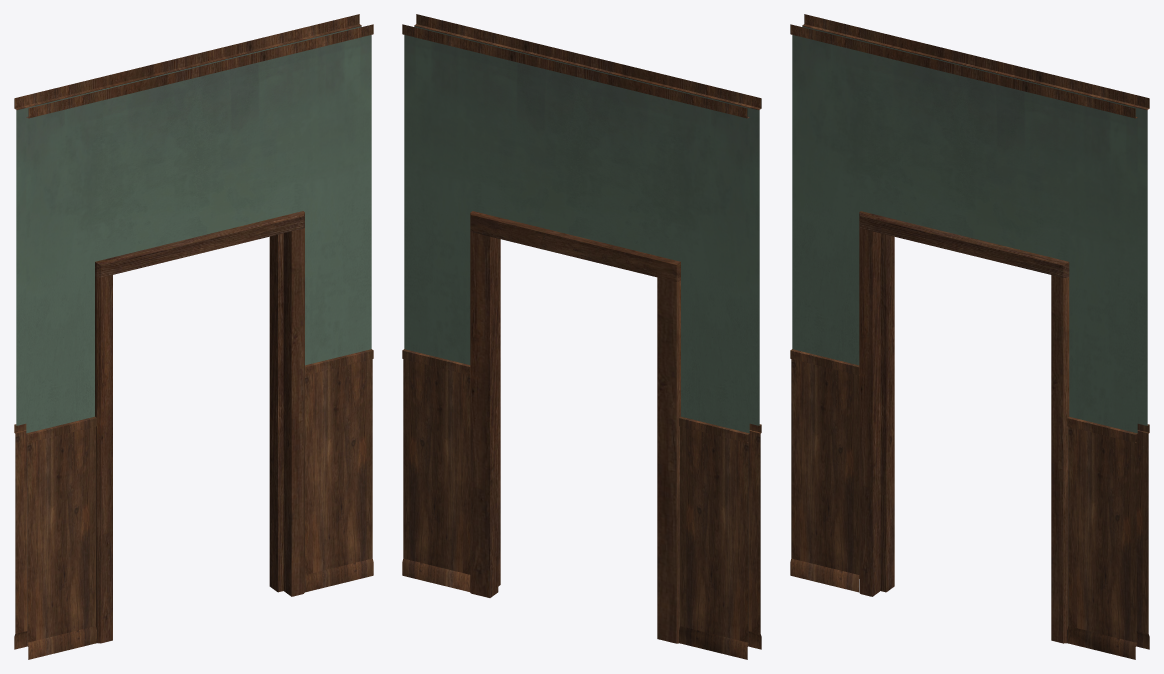
The model's file is RecSinDooW.fbx.
The picture shows the model from 3 angles, left to right: view 1: azimuth 30°, elevation 25°; view 2: azimuth 150°, elevation 25°; view 3: azimuth 330°, elevation 25°; orthographic projection.
Parts seen in each view (by area): view 1: DoorWall; view 2: DoorWall; view 3: DoorWall.
Boxes of the visible parts, x1,y1,x2,y2 form: DoorWall: (14,14,373,659); DoorWall: (402,14,761,659); DoorWall: (790,14,1149,659).
Bounding box in the file's own units: 200 × 305 × 16.33.
Materials: 1 (1 with a texture image).
